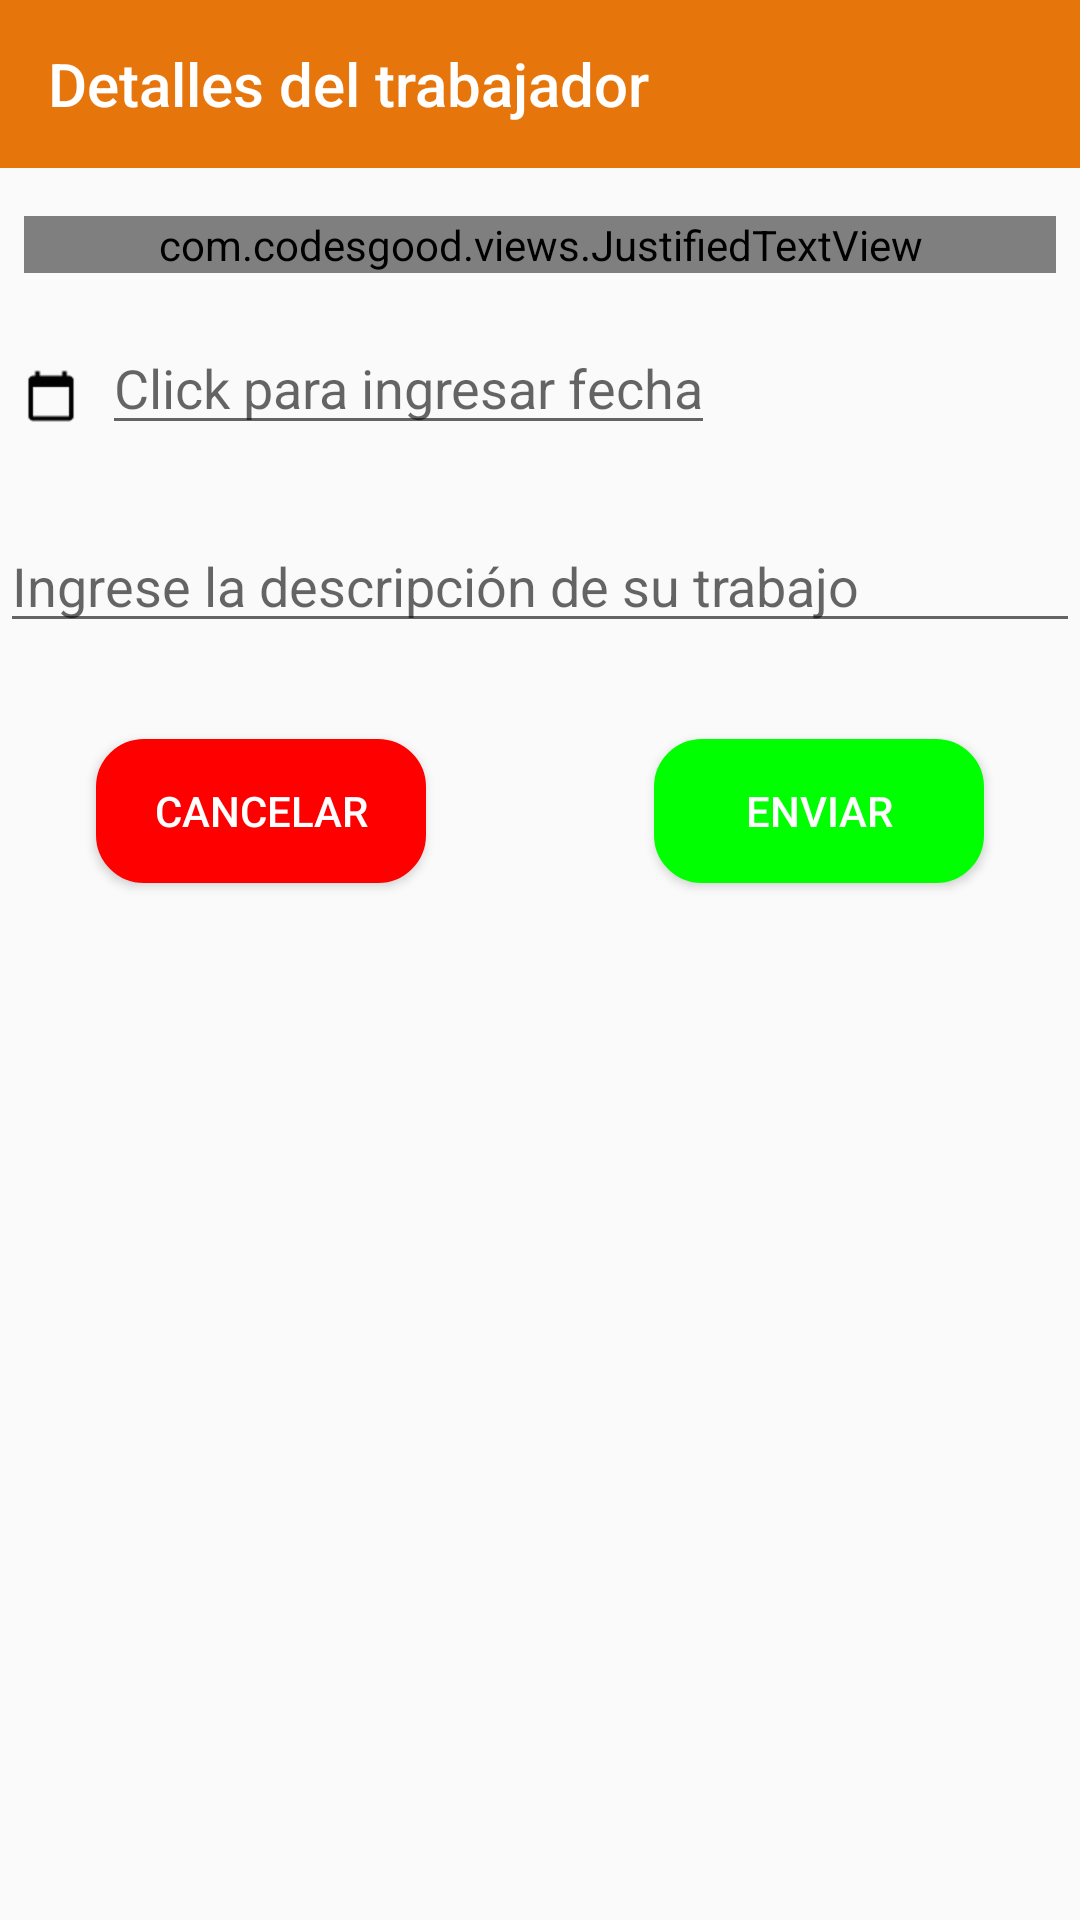

Icons on this 1080px×1920px Android screen, each with the point to tap as point (x, y):
calendar: point (51, 396)
